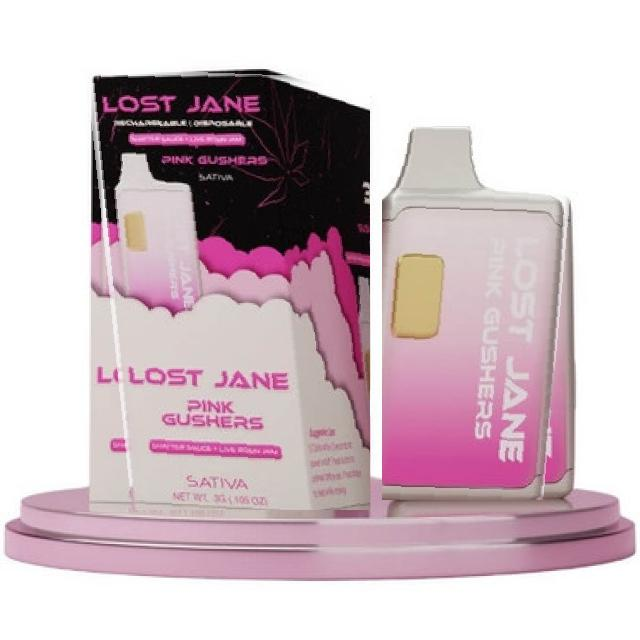Vapes: (86, 68, 370, 510), (382, 125, 576, 500)
